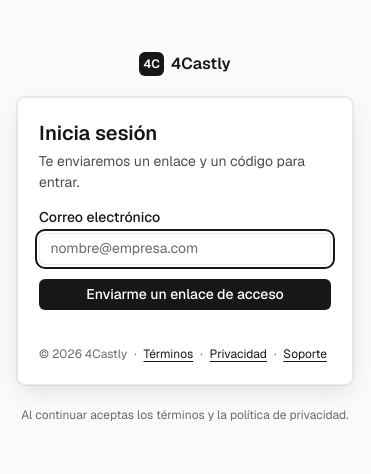
Scenario: LoginPage › rate limited: shows an inline notice and stays on the email step
Type "ana.torres@example.com" into the field labelled "Correo electrónico".
click(185, 249); type("ana.torres@example.com")  # box [50,238,320,259]
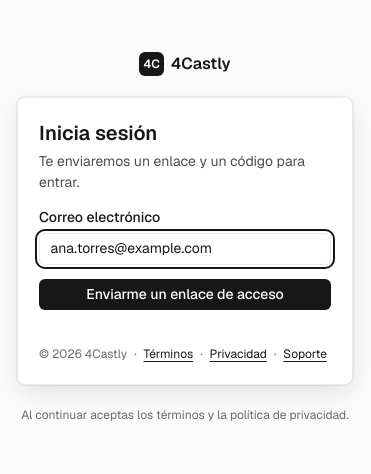
Click the button "Enviarme un enlace de acceso".
click(185, 294)  # box [39,279,331,310]
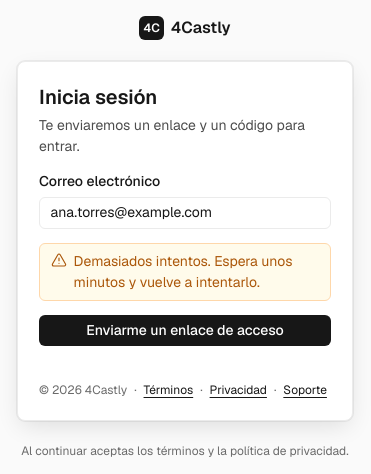
Check: the text "Demasiados intentos" is shown, box [74,252,292,291]
